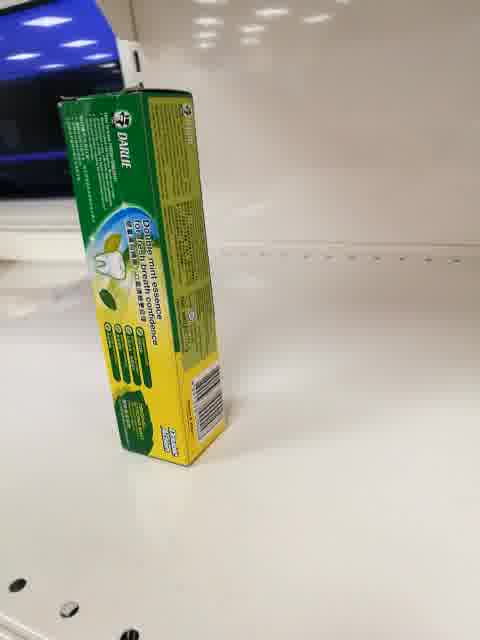toothpaste: (56, 88, 228, 468)
